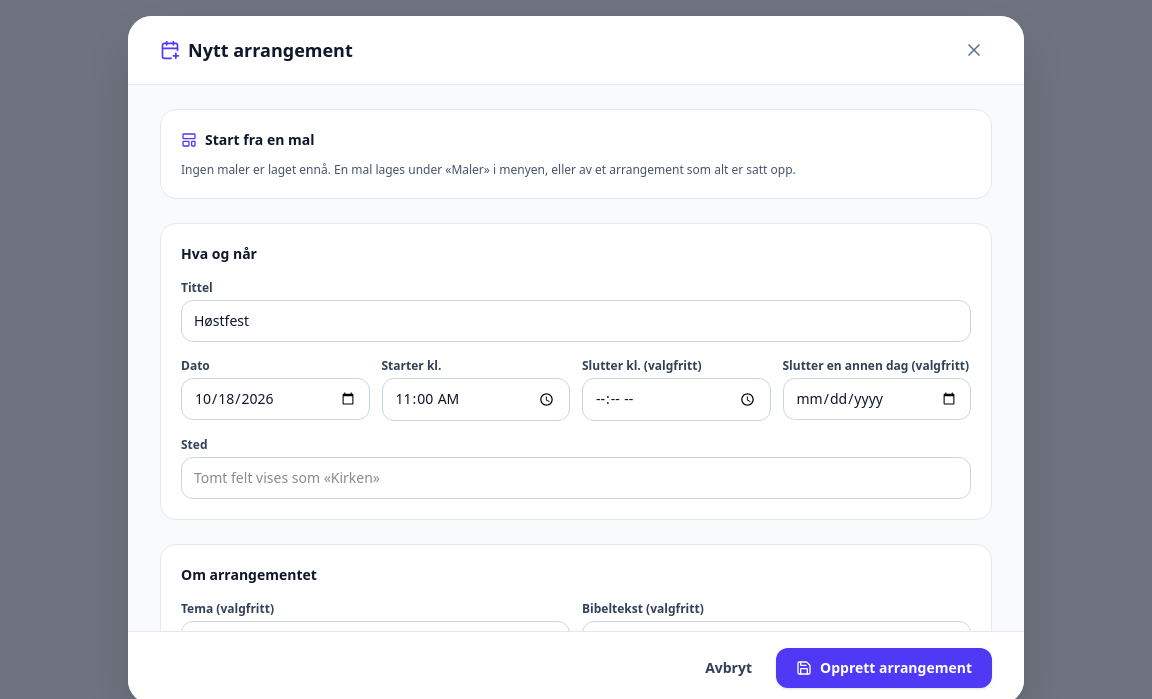
it: Det store skjemaet for et nytt arrangement › blir stående åpent med det som er skrevet, når lagringen ikke går
The image size is (1152, 699).
Click the button "Opprett arrangement". click: click(884, 668)
box: [776,648,992,688]
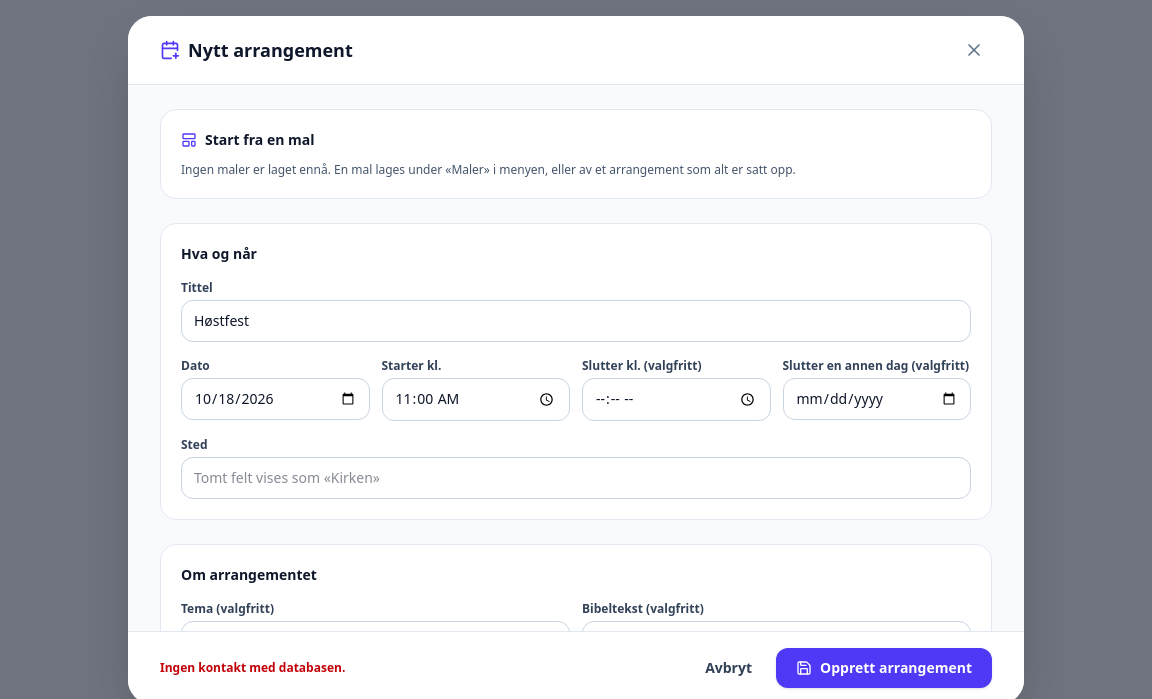
expect the field labelled "Tittel" holds "Høstfest": met, box [181,300,971,342]
expect the message reads "Ingen kontakt med databasen.": met, box [160,659,345,676]
